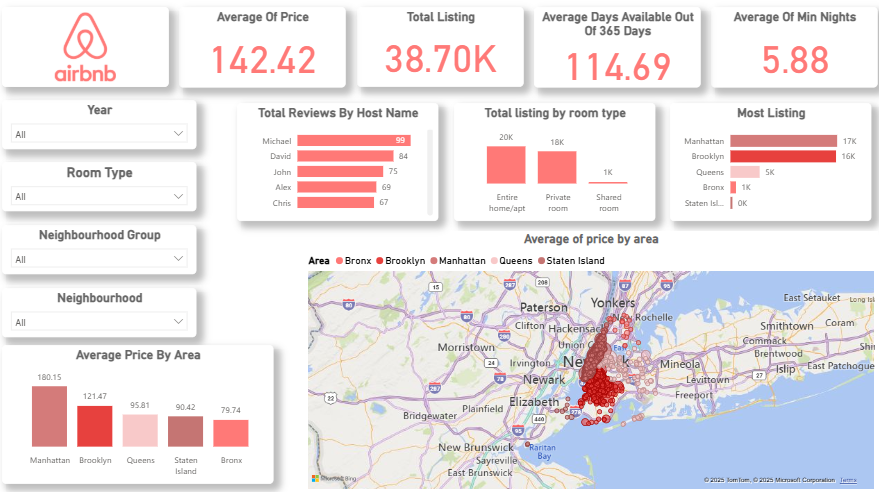

Layout of this report page (visuals, bound fields, positions):
{"tool":"powerbi","page":{"name":"Page 1","canvas":[1280,720],"ordinal":0},"visuals":[{"type":"slicer","title":"Year","fields":{"Values":["AB_NYC_2019.Year"]},"box":[8,155,279.8,71.2],"z":0},{"type":"slicer","title":"Neighbourhood","fields":{"Values":["AB_NYC_2019.neighbourhood"]},"box":[8,426.2,279.8,71.2],"z":1000},{"type":"slicer","title":"Neighbourhood Group","fields":{"Values":["AB_NYC_2019.neighbourhood_group"]},"box":[8,335.8,279.8,71.2],"z":2000},{"type":"slicer","title":"Room Type","fields":{"Values":["AB_NYC_2019.room_type"]},"box":[8,245.4,279.8,71.2],"z":3000},{"type":"card","title":"Total Listing","fields":{"Values":["AB_NYC_2019.id"]},"box":[520,21.9,240,115],"z":4000},{"type":"card","title":"Average Of Price","fields":{"Values":["AB_NYC_2019.price"]},"box":[264.9,21.5,240.1,115.9],"z":5000},{"type":"card","title":"Average Of Min Nights","fields":{"Values":["AB_NYC_2019.minimum_nights"]},"box":[1030,21.5,240.1,115.9],"z":6000},{"type":"card","title":"Average Days Available Out Of 365 Days","fields":{"Values":["AB_NYC_2019.availability_365"]},"box":[774.9,21.4,240.1,115.9],"z":7000},{"type":"columnChart","title":"Average Price By Area","fields":{"Category":["AB_NYC_2019.neighbourhood_group"],"Y":["AB_NYC_2019.price"]},"box":[8.3,508.4,390.8,200.4],"z":8000},{"type":"columnChart","title":"Total listing by room type","fields":{"Category":["AB_NYC_2019.room_type"],"Y":["AB_NYC_2019.id"]},"box":[659.5,160.2,290,170],"z":9000},{"type":"barChart","title":"Most Listing","fields":{"Y":["AB_NYC_2019.id"],"Category":["AB_NYC_2019.neighbourhood_group"]},"box":[971.3,160.2,290,170],"z":10000},{"type":"map","title":"Average of price by area","fields":{"Y":["AB_NYC_2019.latitude"],"X":["AB_NYC_2019.longitude"],"Series":["AB_NYC_2019.neighbourhood_group"],"Size":["AB_NYC_2019.price"]},"box":[445.4,344.4,824.6,375.9],"z":11000},{"type":"image","box":[8.3,11.6,264.9,135.8],"z":12000},{"type":"barChart","title":"Total Reviews By Host Name","fields":{"Y":["AB_NYC_2019.number_of_reviews"],"Category":["AB_NYC_2019.host_name","AB_NYC_2019.id"]},"box":[347.7,160.2,290,170],"z":13000}]}

Visuals, with their boxes in screenshot pixels (x1, y1, x2, y2), scaled from the page's 1280x720 canvas onto the 879x492 screenshot:
"Year" slicer: l=5, t=106, r=198, b=155
"Neighbourhood" slicer: l=5, t=291, r=198, b=340
"Neighbourhood Group" slicer: l=5, t=229, r=198, b=278
"Room Type" slicer: l=5, t=168, r=198, b=216
"Total Listing" card: l=357, t=15, r=522, b=94
"Average Of Price" card: l=182, t=15, r=347, b=94
"Average Of Min Nights" card: l=707, t=15, r=872, b=94
"Average Days Available Out Of 365 Days" card: l=532, t=15, r=697, b=94
"Average Price By Area" columnChart: l=6, t=347, r=274, b=484
"Total listing by room type" columnChart: l=453, t=109, r=652, b=226
"Most Listing" barChart: l=667, t=109, r=866, b=226
"Average of price by area" map: l=306, t=235, r=872, b=491
image: l=6, t=8, r=188, b=101
"Total Reviews By Host Name" barChart: l=239, t=109, r=438, b=226
